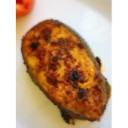seerfish: (20, 17, 112, 121)
